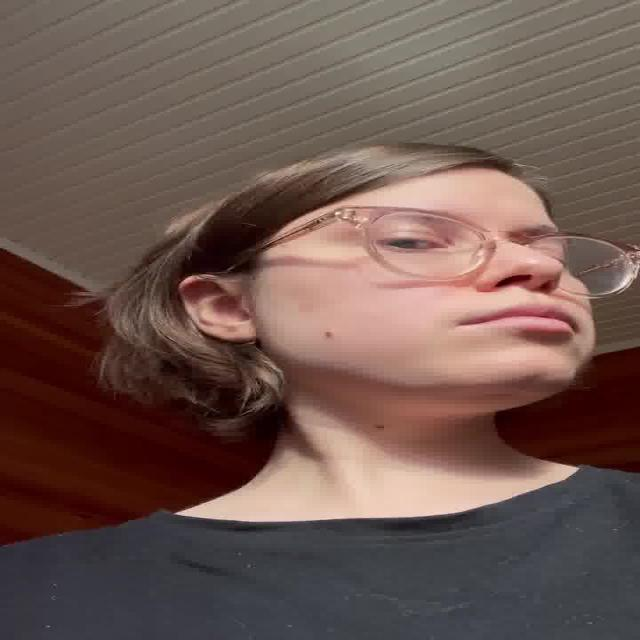earlobe: (219, 320, 260, 342)
eye: (375, 232, 452, 254)
nose: (485, 279, 566, 303)
wholeear: (176, 273, 260, 342)
